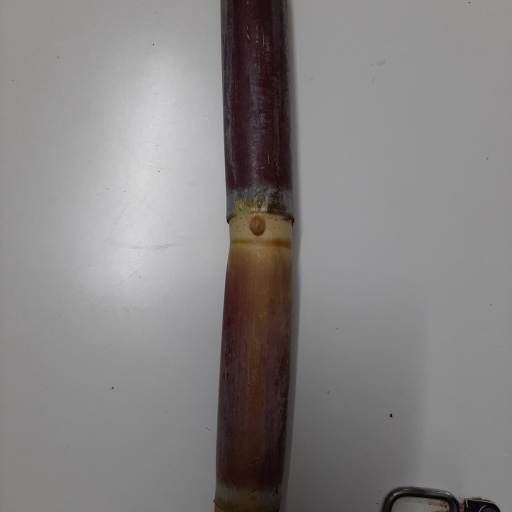Bud: (249, 216, 266, 237)
